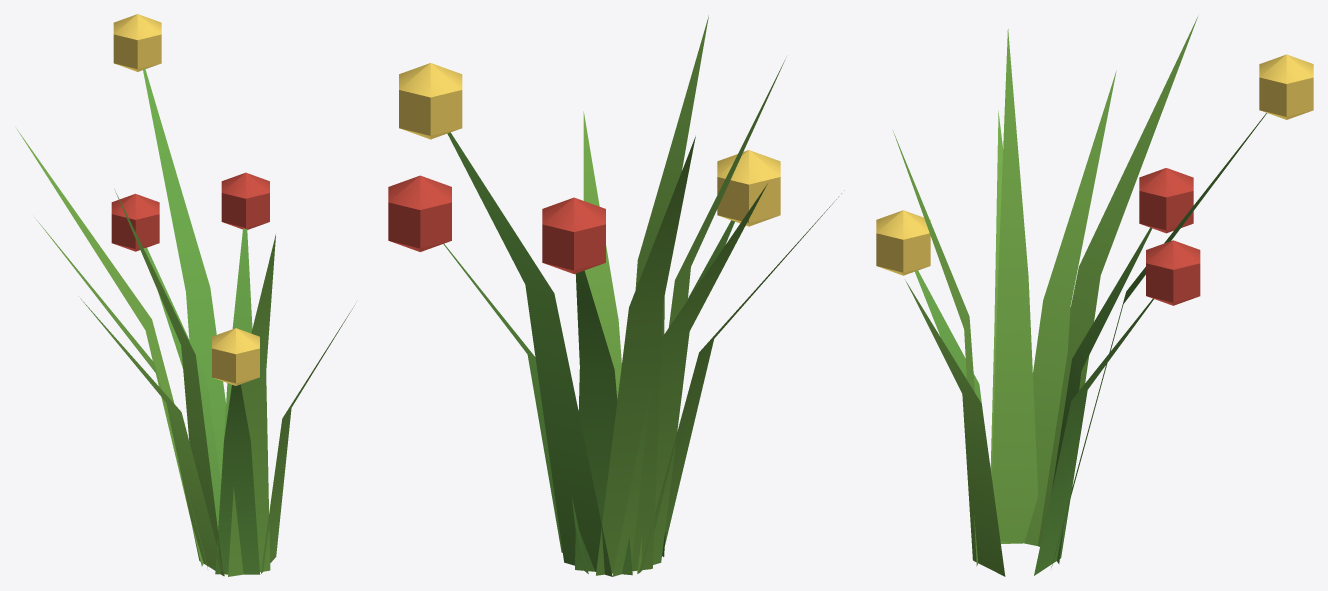
Rendered from gras_3.obj.
3 renders of one model, left to right at view 1: azimuth 30°, elevation 25°; view 2: azimuth 150°, elevation 25°; view 3: azimuth 270°, elevation 25°, orthographic. The views are drawn at different scales.
Visible parts, largest first — view 1: gras_3_Koerper; view 2: gras_3_Koerper; view 3: gras_3_Koerper.
Part boxes in pixels (box(x1,y1,x2,y2)): gras_3_Koerper: box(16, 14, 354, 576); gras_3_Koerper: box(388, 15, 844, 576); gras_3_Koerper: box(876, 17, 1313, 576).
Size of the model in its own units: 0.4867 by 0.784 by 0.6041.
